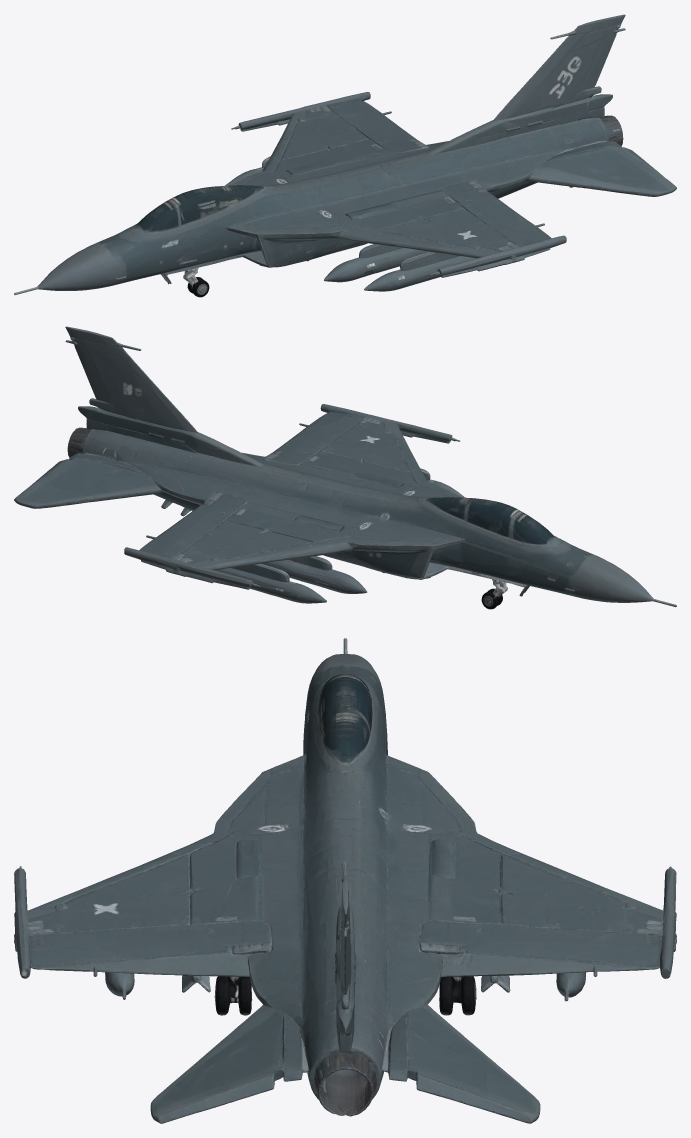
Rendered from rafale.glb.
The picture shows the model from 3 angles, top to bottom: view 1: azimuth 30°, elevation 25°; view 2: azimuth 150°, elevation 25°; view 3: azimuth 270°, elevation 25°; orthographic projection. The views are drawn at different scales.
Bounding box in the file's own units: 1.9 × 0.5275 × 1.1.
1 material, 1 textured.
